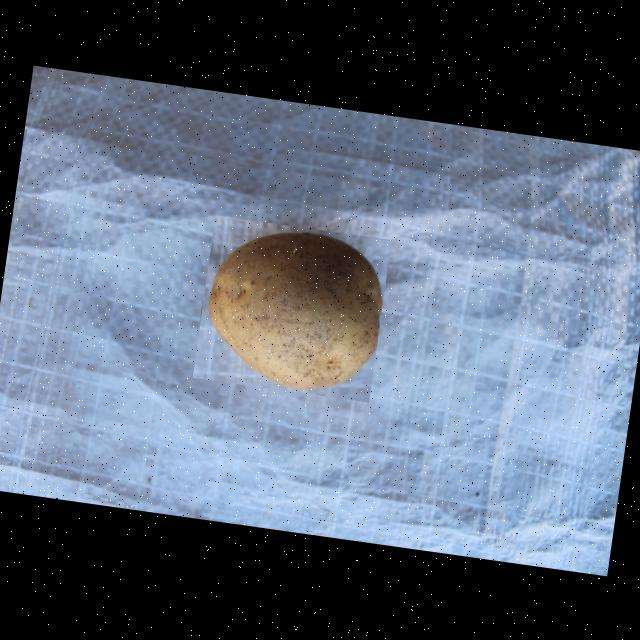Diseased-fungal potato: (192, 215, 391, 402)
